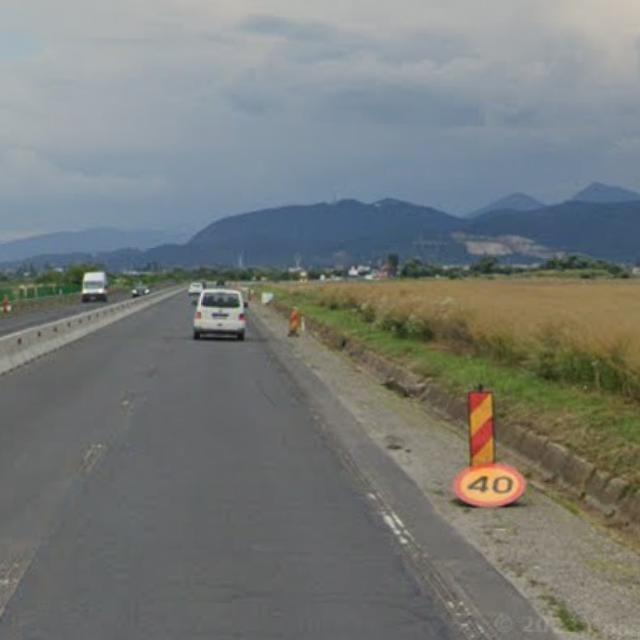forb_speed_over_40: (454, 465, 527, 510)
